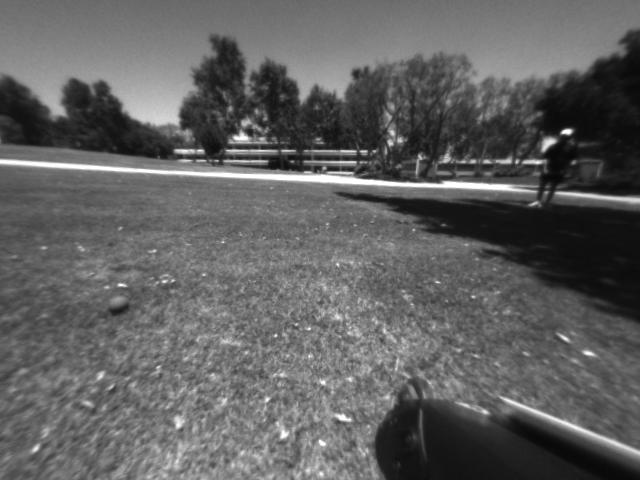dogtoy: (101, 287, 137, 319)
